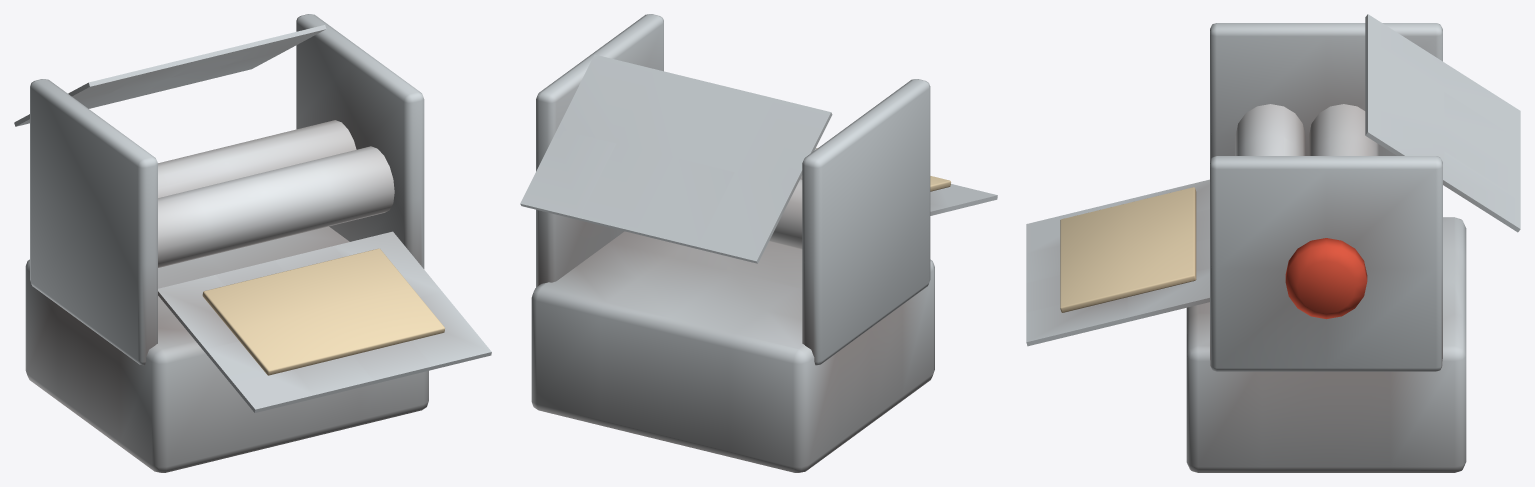
The model's file is fp-sheeter.gltf.
3 views of the same model, side by side, from view 1: azimuth 30°, elevation 25°; view 2: azimuth 150°, elevation 25°; view 3: azimuth 270°, elevation 25° (orthographic). The views are drawn at different scales.
Visible parts, largest first — view 1: model; view 2: model; view 3: model.
Part boxes in pixels (left/top/right/bottom): model: left=14, top=14, right=491, bottom=472; model: left=520, top=14, right=997, bottom=472; model: left=1026, top=14, right=1520, bottom=472.
Bounding box in the file's own units: 0.3275 × 0.3175 × 0.4241.
